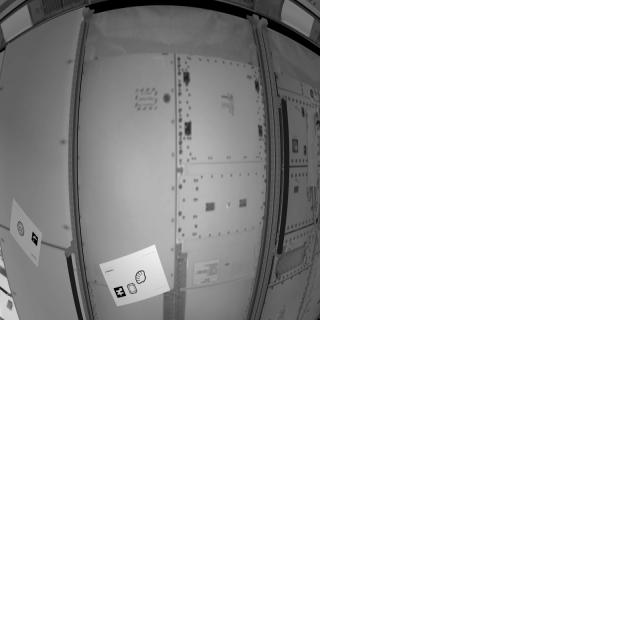coin: (17, 220, 27, 240)
emerald: (127, 283, 140, 297)
shell: (136, 270, 149, 286)
